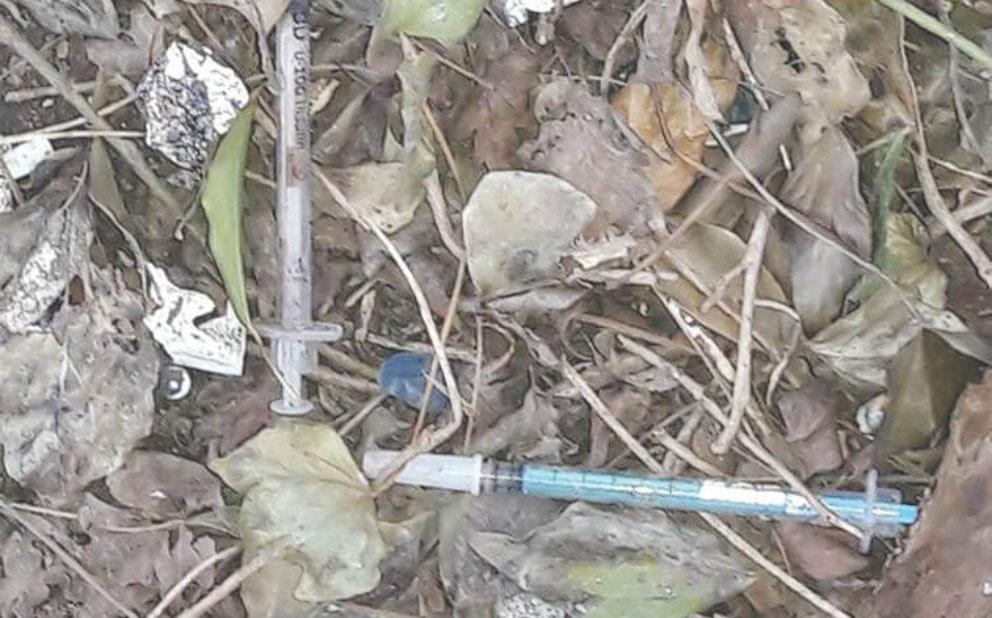Syringe: (395, 454, 820, 520)
